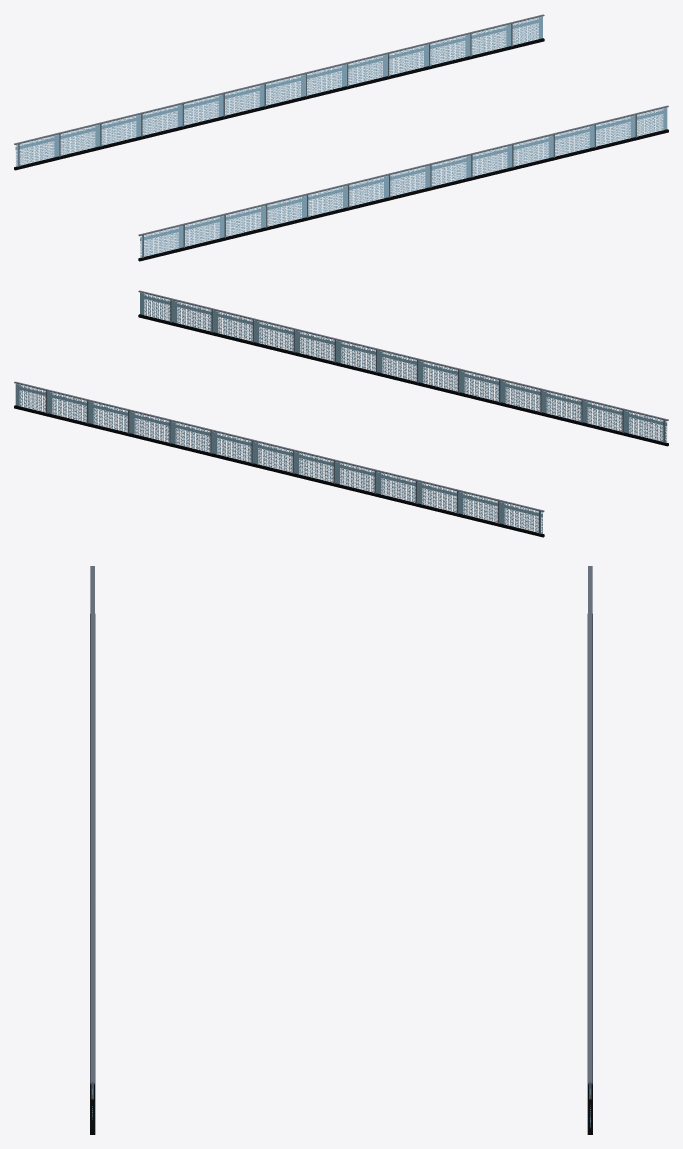
File: tt_bridges_view_guards.glb
3 views of the same model, one above another, from view 1: azimuth 30°, elevation 25°; view 2: azimuth 150°, elevation 25°; view 3: azimuth 270°, elevation 25° (orthographic). The views are drawn at different scales.
Parts seen in each view (by area): view 1: Bridge_Pane_Scissor, Bridge_Kick, Bridge_CapRail, Bridge_Post; view 2: Bridge_Pane_Scissor, Bridge_Kick, Bridge_CapRail, Bridge_Post; view 3: Bridge_CapRail, Bridge_Kick.
Part boxes in pixels (left/top/right/bottom): Bridge_Pane_Scissor: left=15, top=16, right=667, bottom=257; Bridge_Kick: left=14, top=38, right=668, bottom=261; Bridge_CapRail: left=14, top=14, right=668, bottom=236; Bridge_Post: left=17, top=24, right=636, bottom=257; Bridge_Pane_Scissor: left=15, top=292, right=667, bottom=533; Bridge_Kick: left=14, top=314, right=668, bottom=537; Bridge_CapRail: left=14, top=290, right=668, bottom=512; Bridge_Post: left=46, top=300, right=664, bottom=533; Bridge_CapRail: left=90, top=566, right=592, bottom=1084; Bridge_Kick: left=90, top=614, right=592, bottom=1134.
Size of what is drawn, in the model's own units: 23.83 by 1.12 by 9.8.
3 materials, 3 textured.
